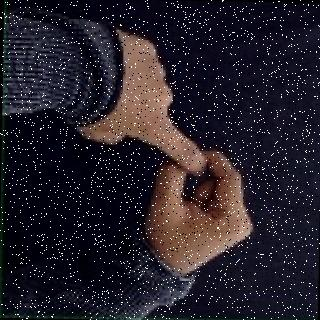Q: (67, 24, 260, 308)
